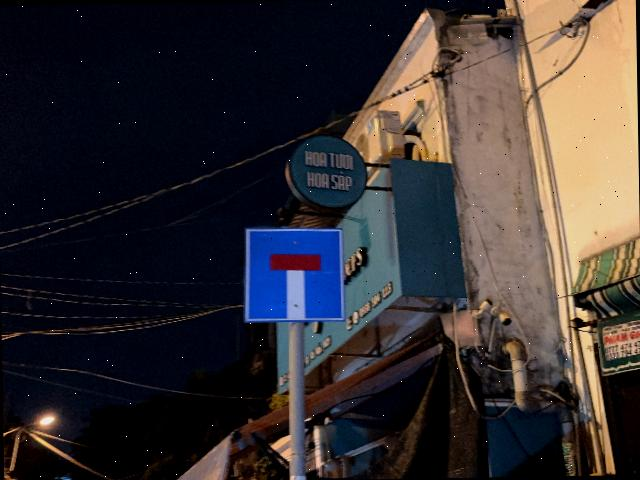duong-cut: (242, 224, 346, 322)
